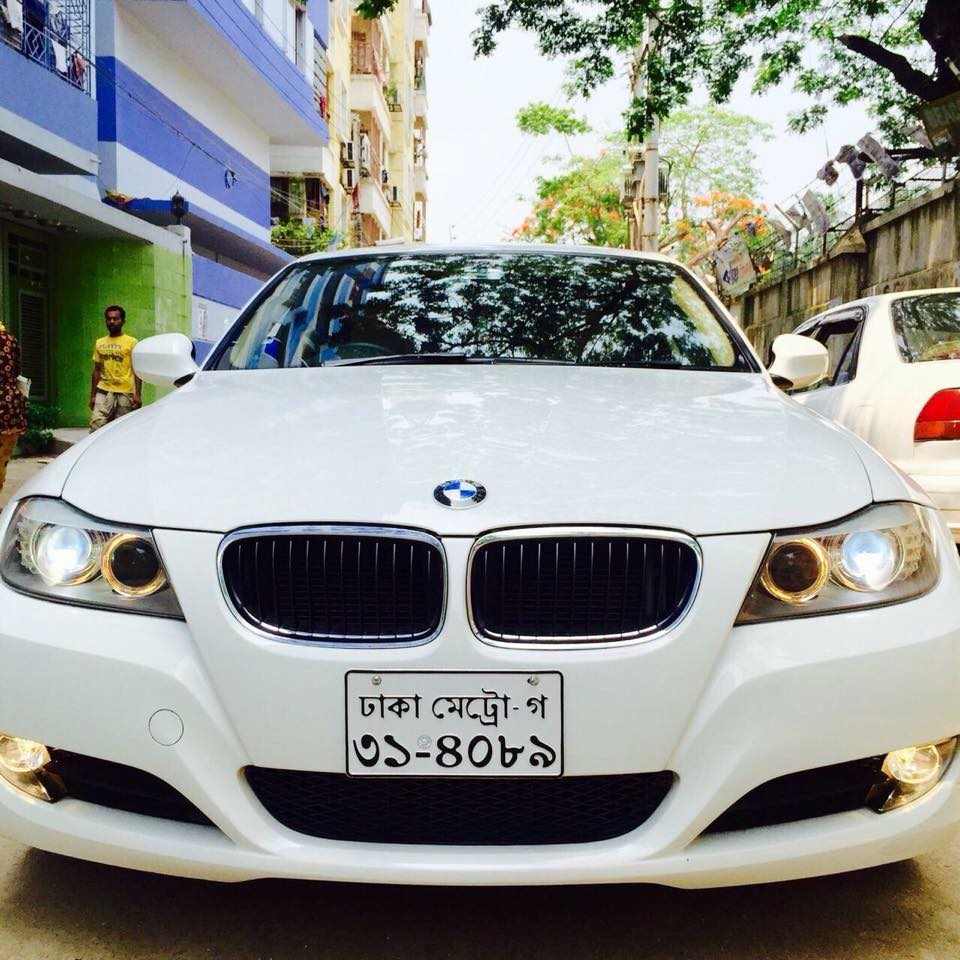registration_plate: (344, 669, 564, 779)
